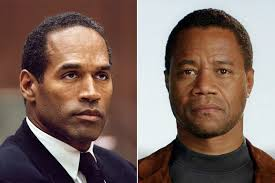person: (18, 12, 114, 142), (162, 7, 255, 139)
